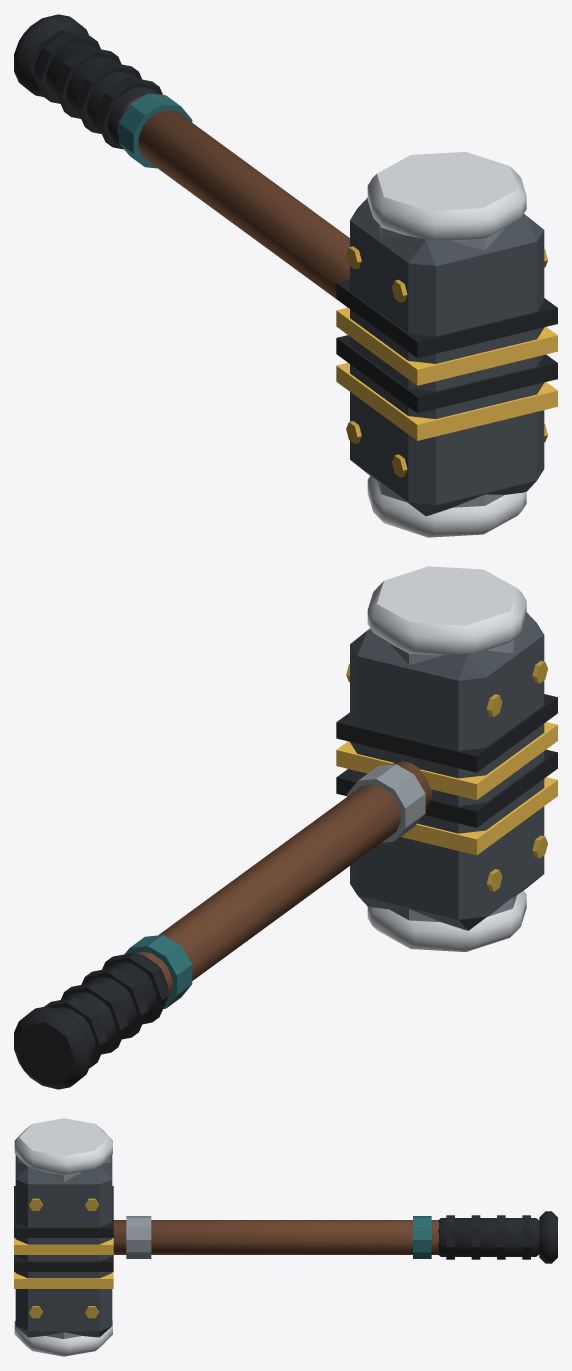
The model's file is Weapon_Sledgehammer.fbx.
3 views of the same model, one above another, from view 1: azimuth 30°, elevation 25°; view 2: azimuth 150°, elevation 25°; view 3: azimuth 270°, elevation 25° (orthographic). The views are drawn at different scales.
Parts seen in each view (by area): view 1: Sledge; view 2: Sledge; view 3: Sledge.
Part boxes in pixels (x1,y1,x2,y2): Sledge: (14,14,557,537); Sledge: (14,566,557,1089); Sledge: (14,1118,557,1356).
Size of the model in its own units: 0.66 by 1.42 by 3.49.
